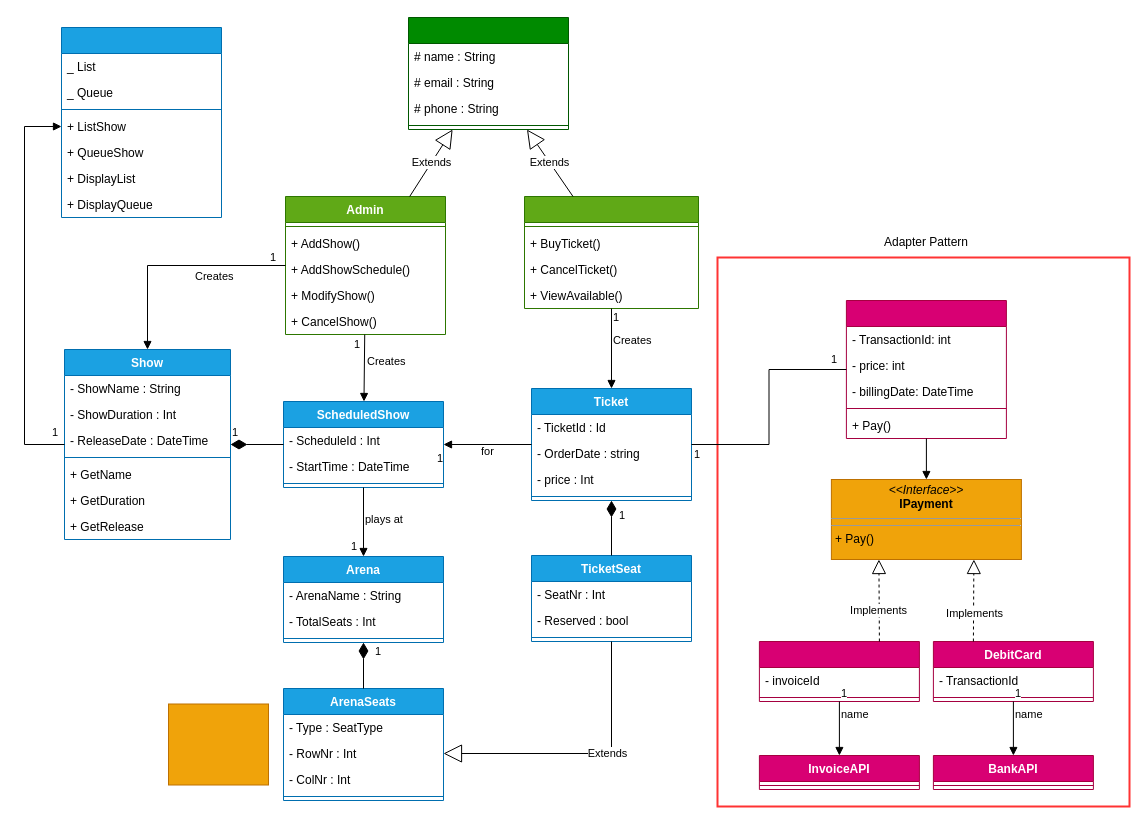
The diagram is 1148 pixels wide and 825 high, and some of its shapes have lost their labels. The shapes that lost their labels are listed below. From the top down, each one's box as (x1, y1, x2, y2) in pixels, then its label:
(408, 16, 568, 130): Person
(60, 26, 222, 218): ShowLibrary
(524, 196, 698, 308): Customer
(845, 300, 1006, 438): Payment
(758, 640, 919, 702): InvoicePay
(168, 703, 268, 785): <<Enum>> SeatType Bench Folding-Chair
